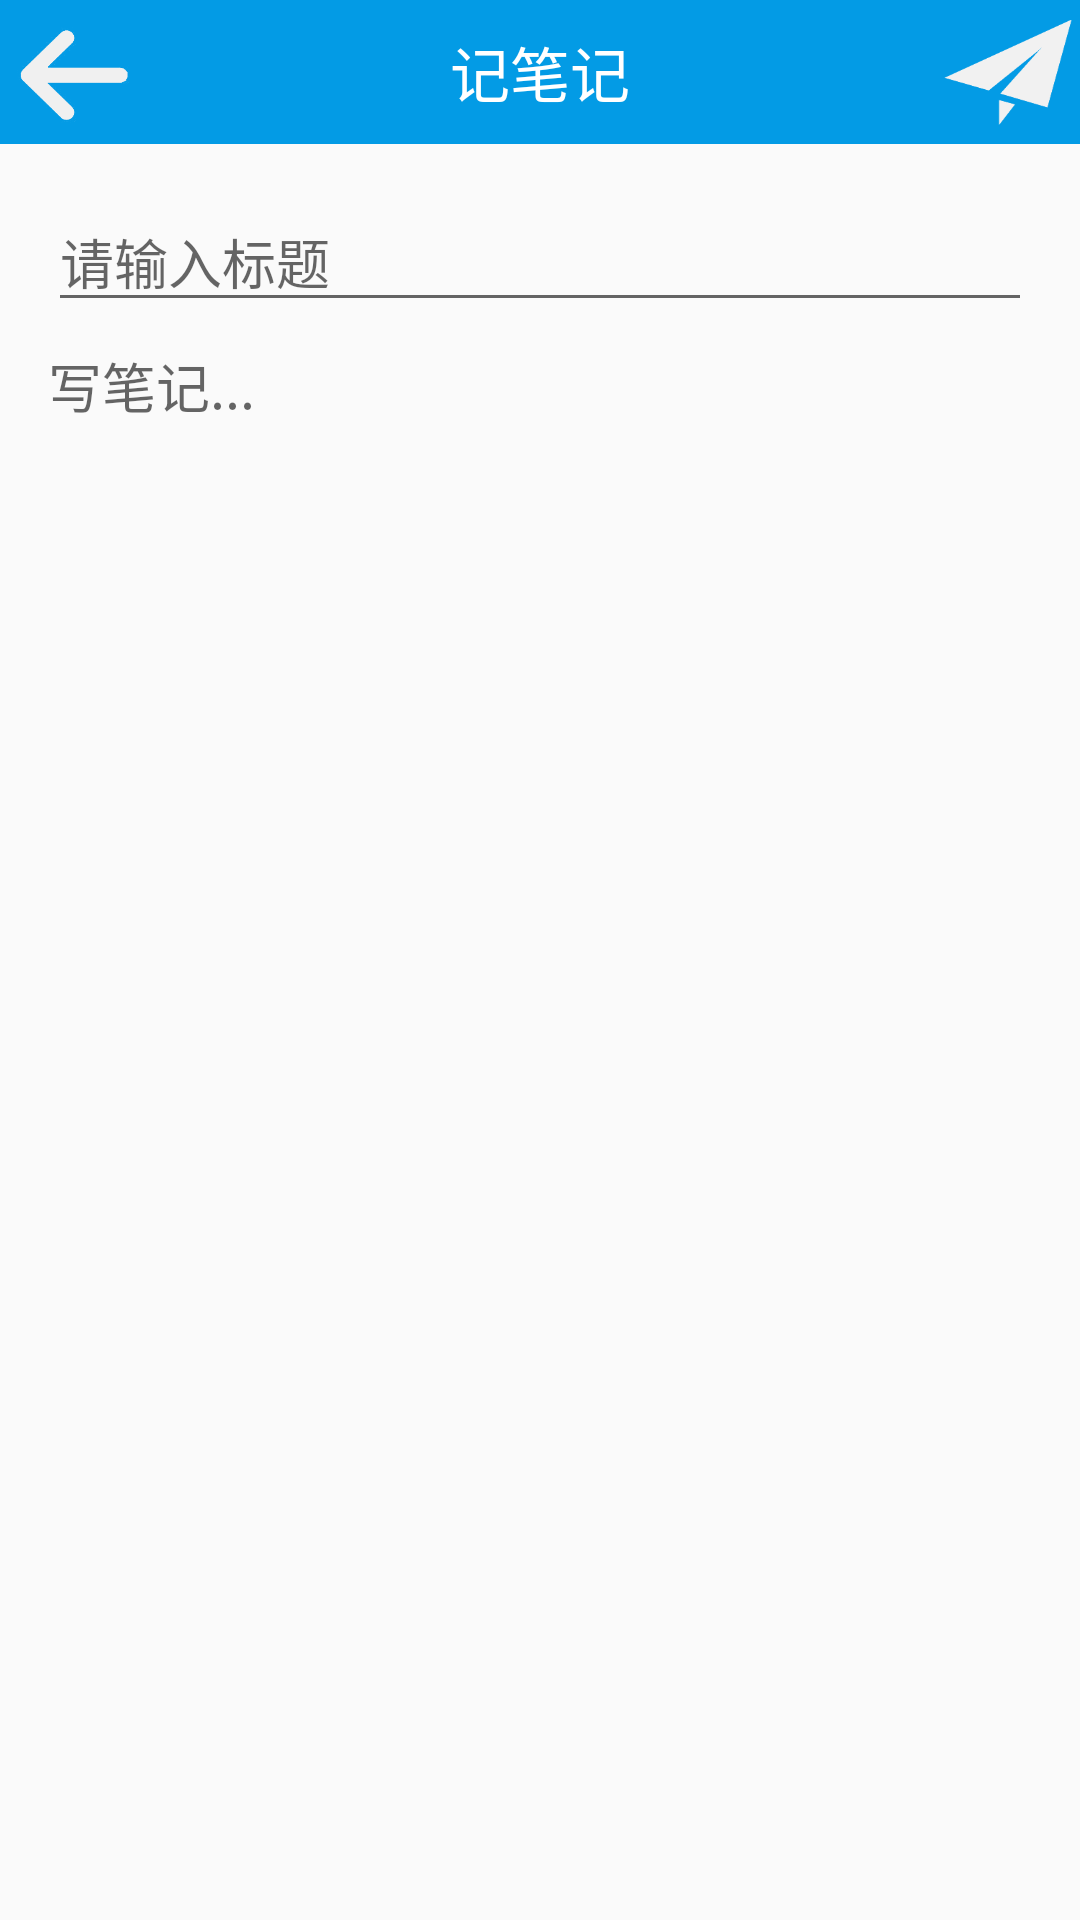

Icons on this 1080px×1920px Android screen, each with its box as box=[x1, y1, x2, y2]:
create note back: box=[20, 30, 128, 120]
create note send: box=[944, 20, 1072, 125]
